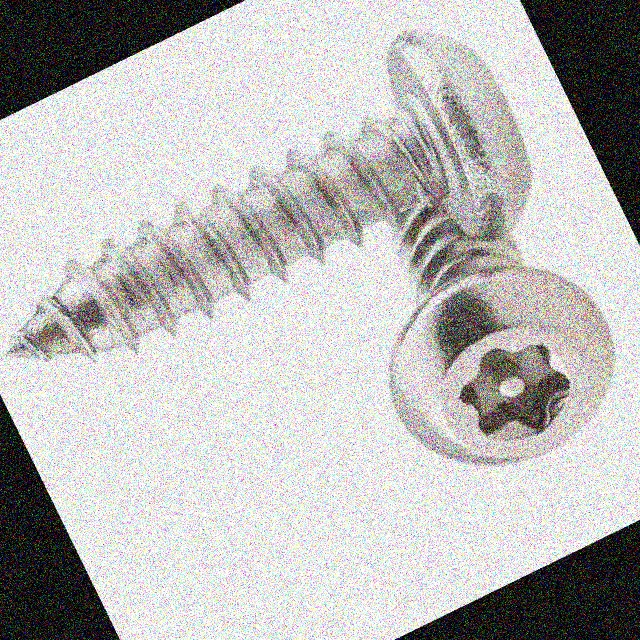torx: (353, 224, 640, 509)
